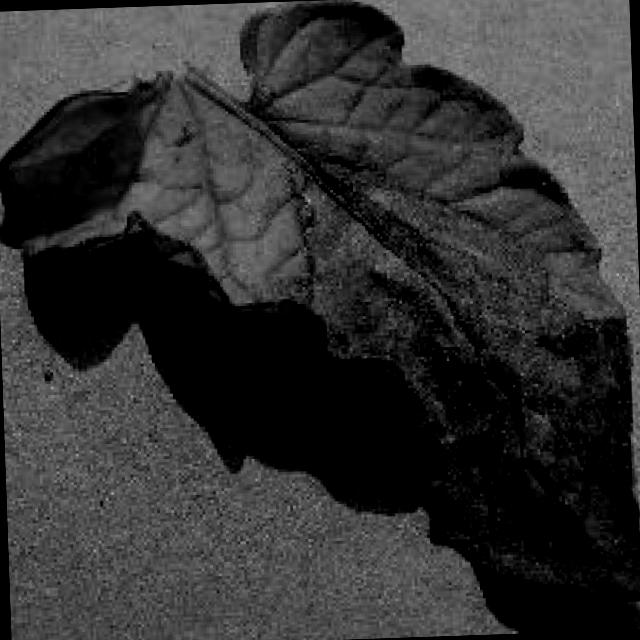leaf blight: (0, 0, 640, 600)
